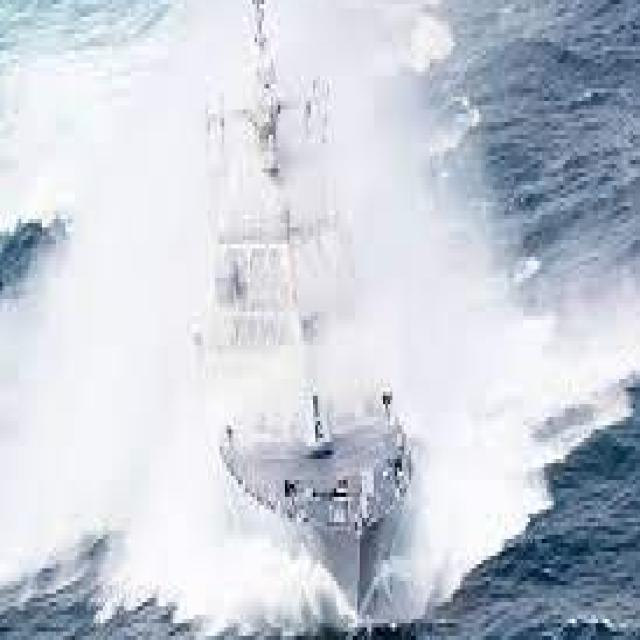navalvessels: (192, 0, 404, 619)
